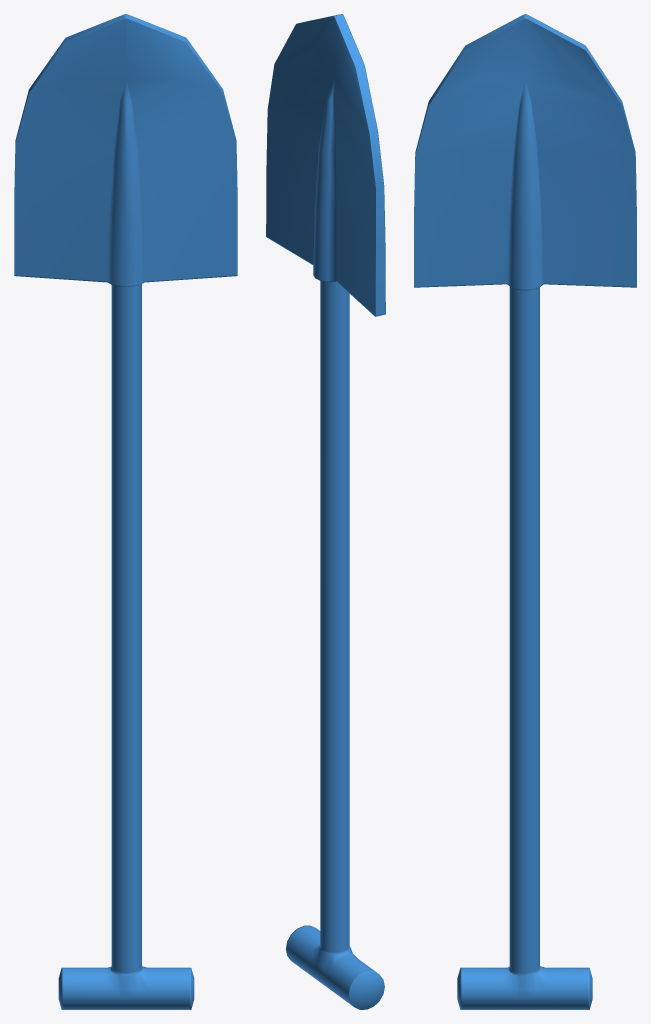
The model's file is Shovel.fbx.
3 renders of one model, left to right at view 1: azimuth 90°, elevation 25°; view 2: azimuth 210°, elevation 25°; view 3: azimuth 270°, elevation 25°, orthographic. The views are drawn at different scales.
Parts seen in each view (by area): view 1: ShovelTop_Low, ShovelHandle_Low; view 2: ShovelTop_Low, ShovelHandle_Low; view 3: ShovelTop_Low, ShovelHandle_Low.
Boxes of the visible parts, left/top/right/bottom form: ShovelTop_Low: left=14, top=14, right=237, bottom=286; ShovelHandle_Low: left=58, top=284, right=194, bottom=1009; ShovelTop_Low: left=266, top=14, right=385, bottom=316; ShovelHandle_Low: left=285, top=281, right=384, bottom=1009; ShovelTop_Low: left=414, top=14, right=636, bottom=290; ShovelHandle_Low: left=457, top=286, right=592, bottom=1009.
Size of the model in its own units: 11.44 by 278 by 56.66.
